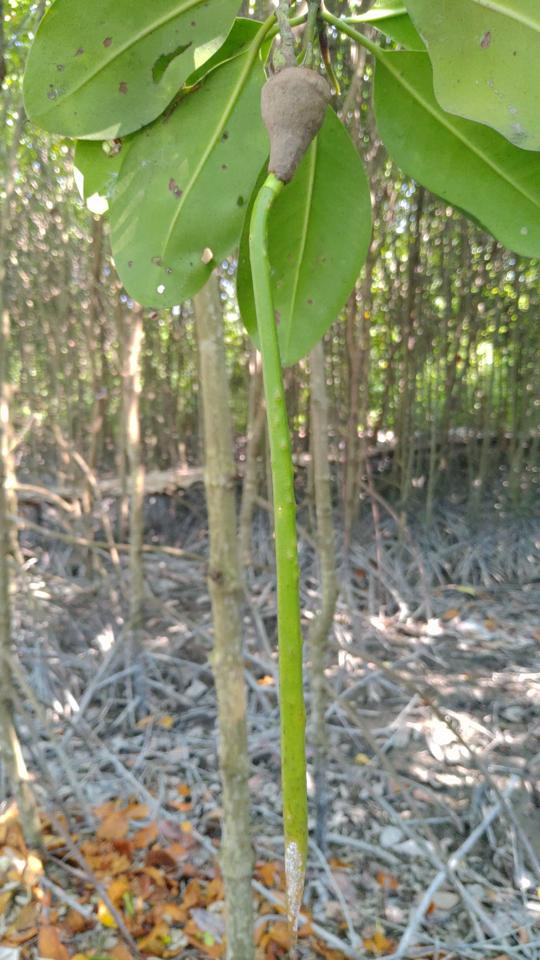setengah matang: (239, 47, 343, 936)
